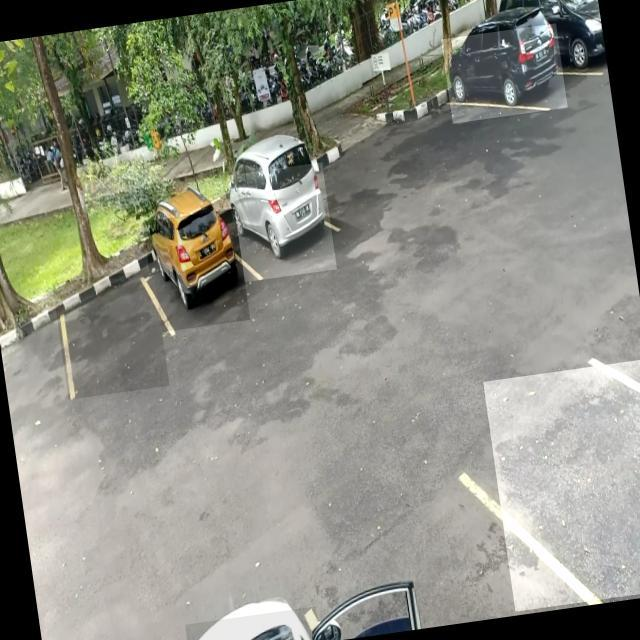empty: (483, 358, 640, 611), (53, 268, 170, 399)
occupied: (142, 208, 250, 332), (228, 163, 338, 283), (442, 23, 568, 124), (185, 606, 321, 640)
